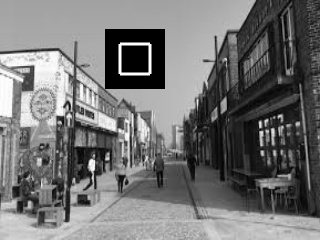square: (105, 29, 165, 88)
